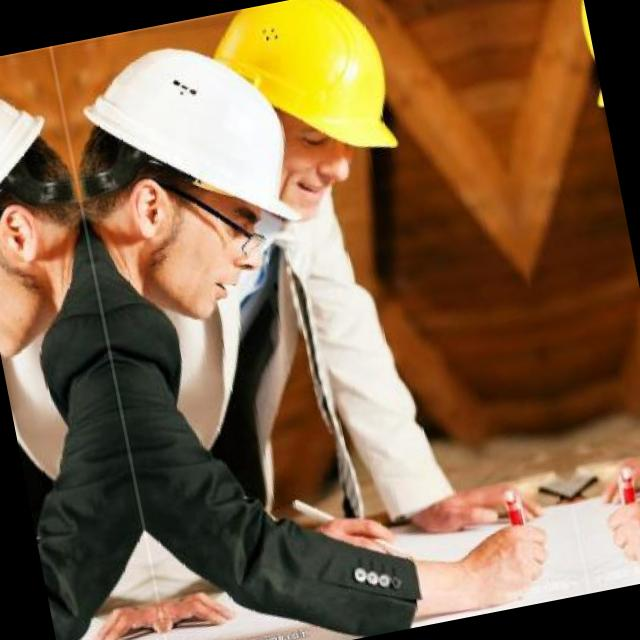helmet: (51, 9, 365, 348), (169, 0, 429, 284), (0, 57, 109, 368)
